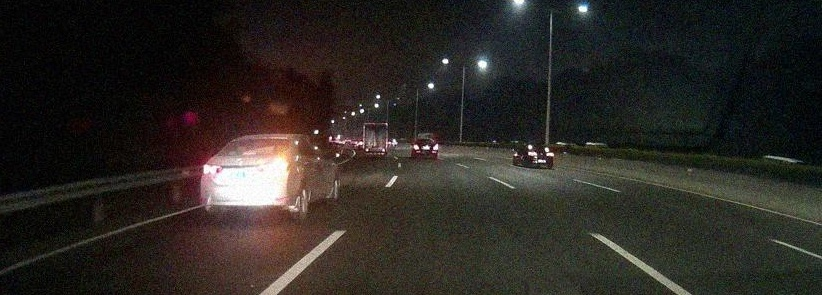L_light: (203, 164, 223, 175)
R_light: (261, 158, 290, 171)
T_light: (252, 138, 266, 142)
night-no: (200, 134, 297, 219)
